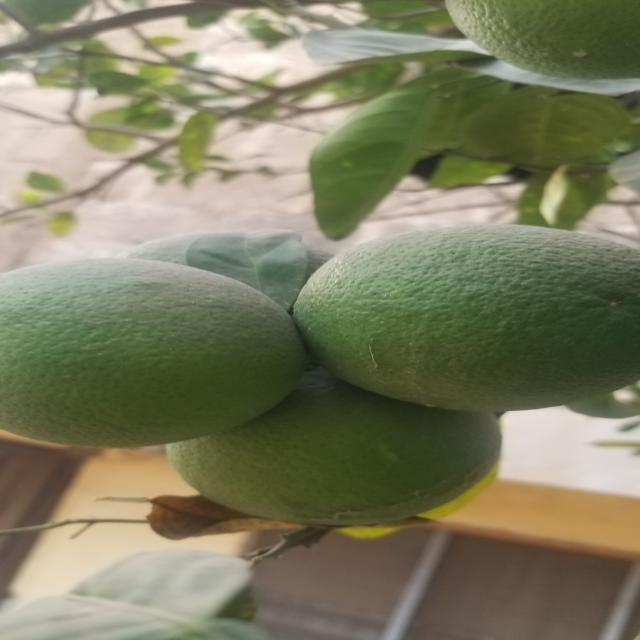Unripe: (0, 241, 307, 456), (294, 222, 640, 408), (166, 380, 496, 522), (454, 2, 640, 82)
